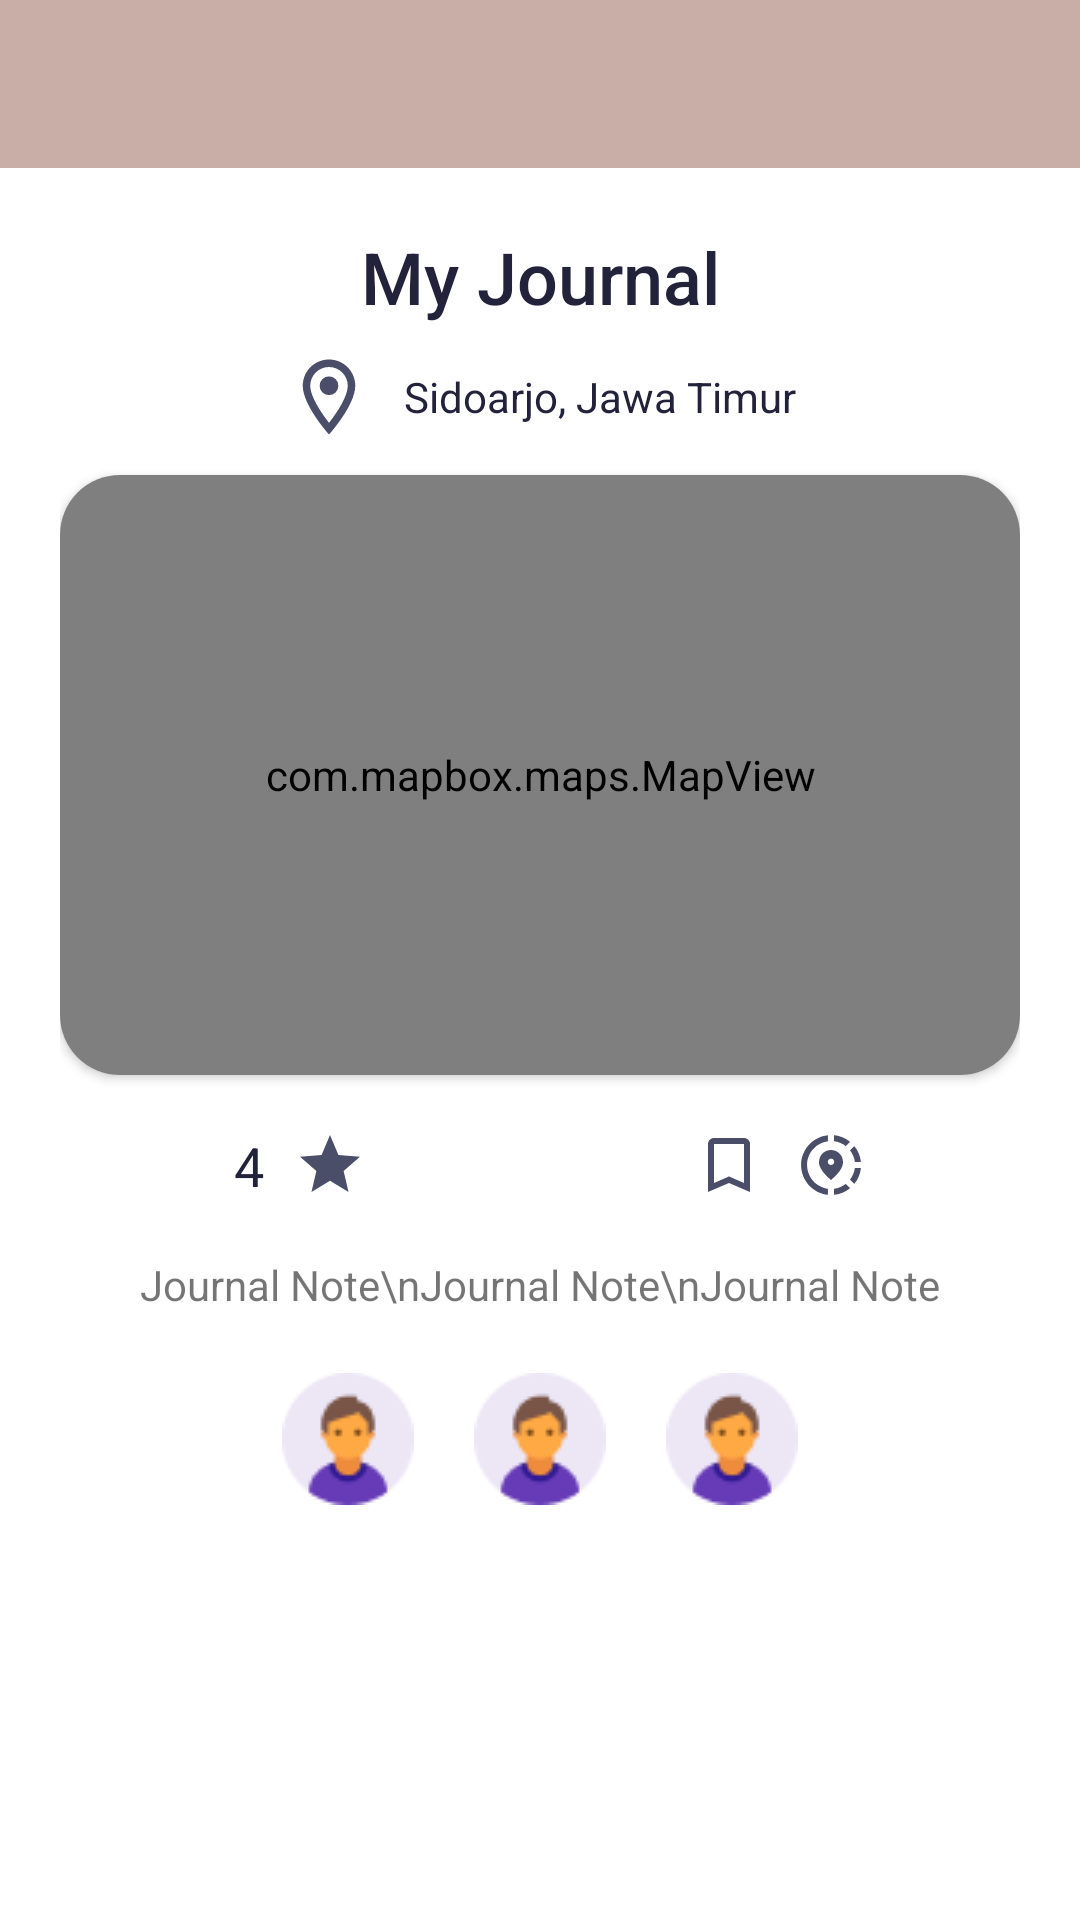

Icons on this 1080 x 1920 Android screen, each with the point to tap as (x,y):
bookmark border: (729,1165)
location on: (329,396)
share location: (831,1165)
shared friend: (347,1440), (539,1440), (731,1440)
star: (330,1163)
